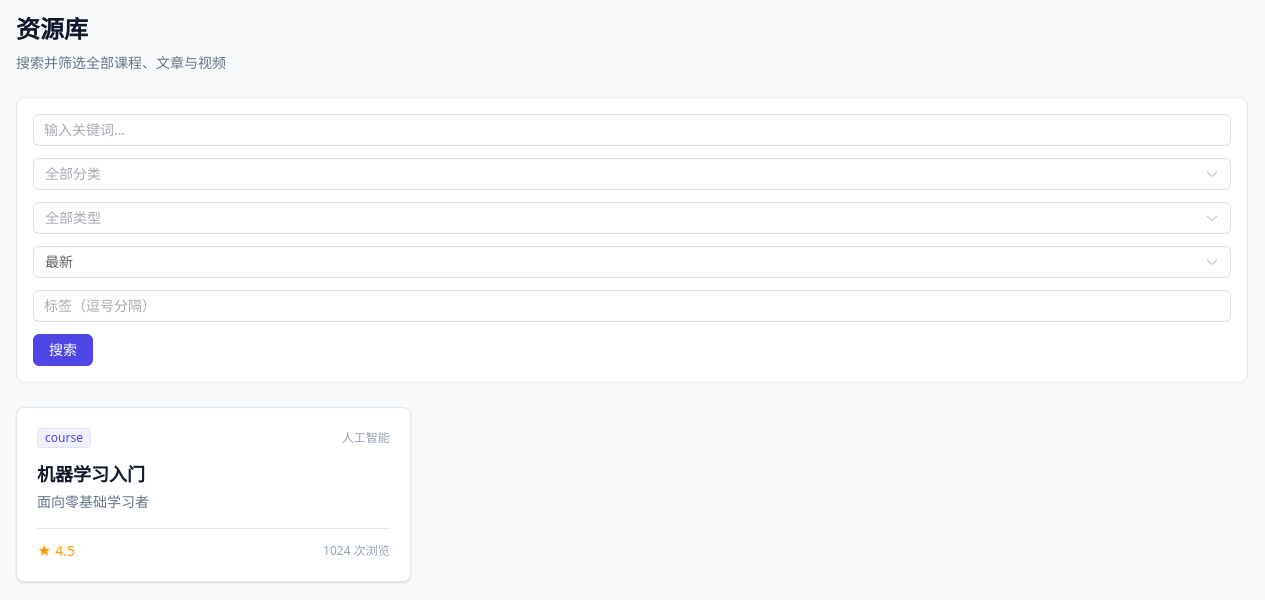
Scenario: SearchPage › 纯关键词搜索本地翻完后，滚到底自动爬取 B 站
In the field with placeholder "输入关键词…": (632, 130) [44,115,1220,145], type "机器学习"
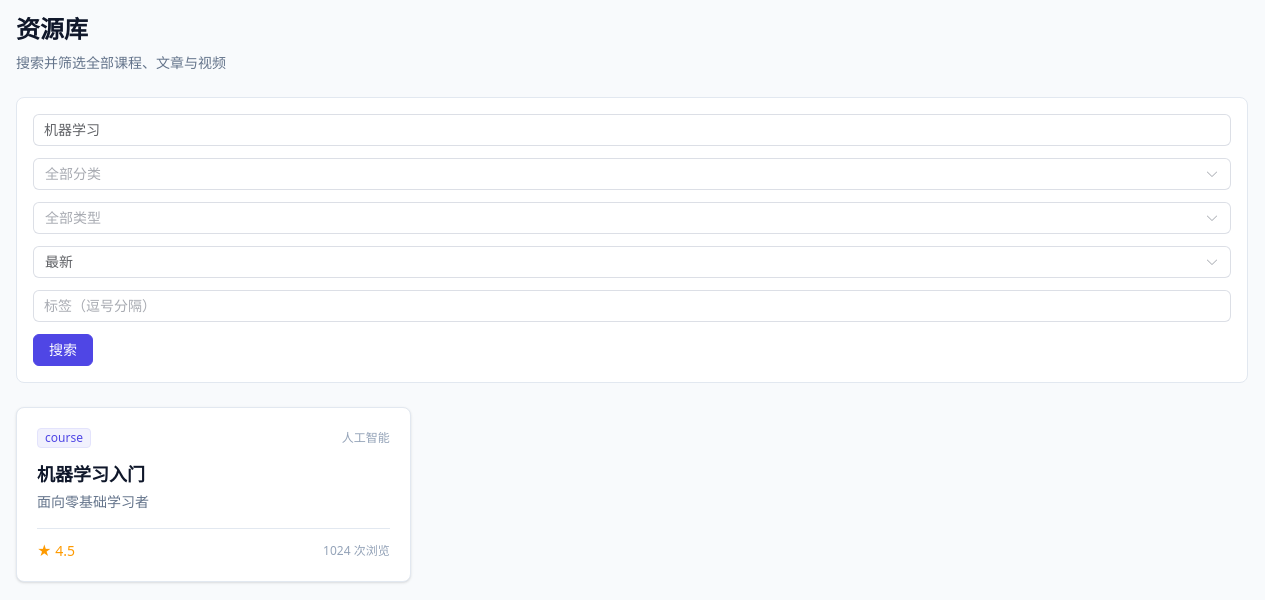
Press Enter in the field with placeholder "输入关键词…", box [44,115,1220,145]
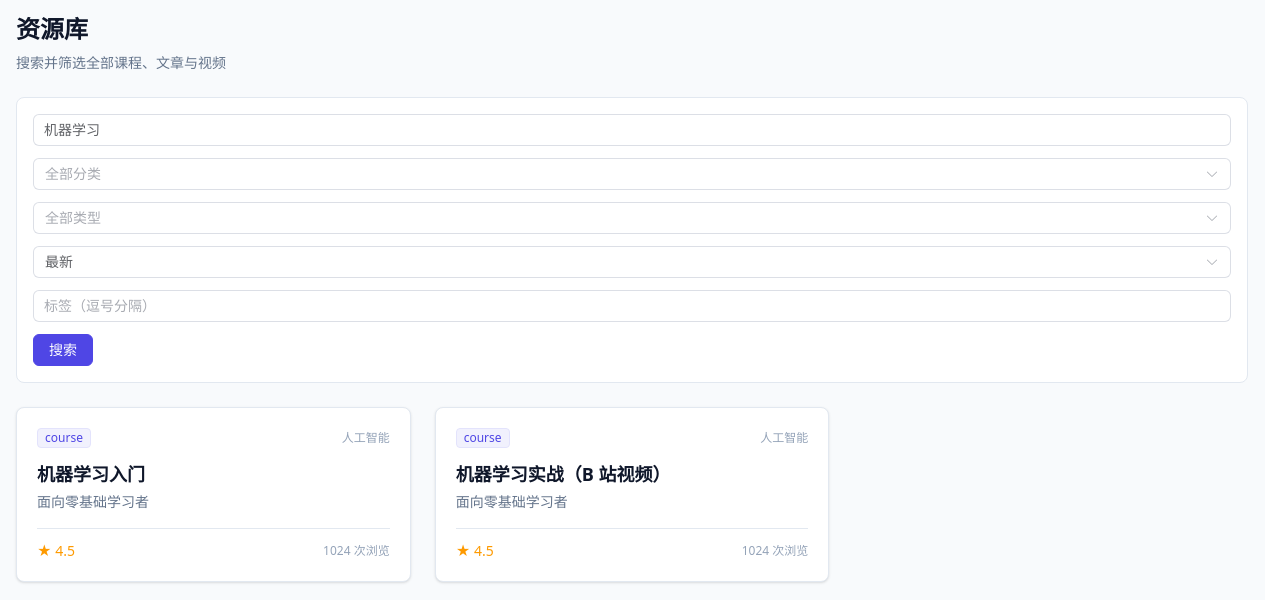
Expected: the number of "ResourceCard" components is 2, [16,407,411,582]; [435,407,829,582]
